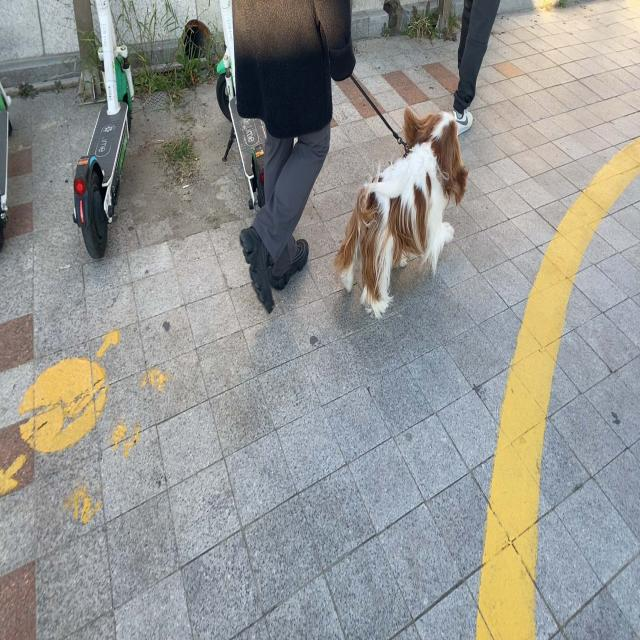Leashed_Dog: (291, 57, 470, 319)
